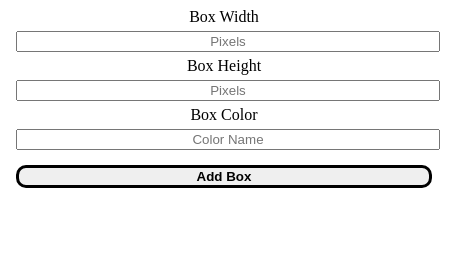
Test: tests for non-number width
Expected: the text "Width Must Be A Positive Number" is not shown
Change the width to an invalid value
Type "one" into the field labelled "Box Width".
click(228, 42); type("one")  # box x1=16 y1=31 x2=440 y2=52
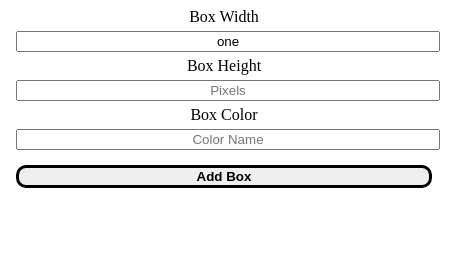
Click the button "Add Box".
click(224, 176)  # box x1=16 y1=165 x2=432 y2=188
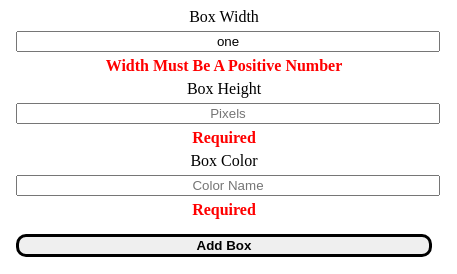
Expected: the text "Width Must Be A Positive Number" is shown, x1=106 y1=57 x2=342 y2=74
